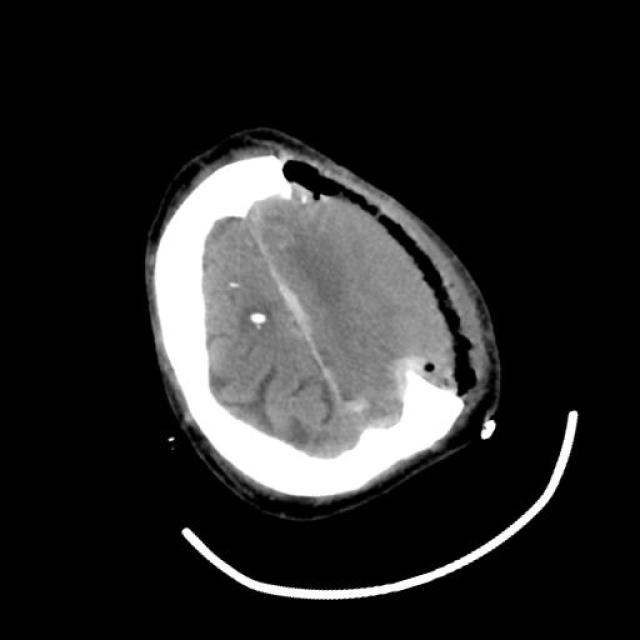Subdural: (258, 252, 342, 362)
